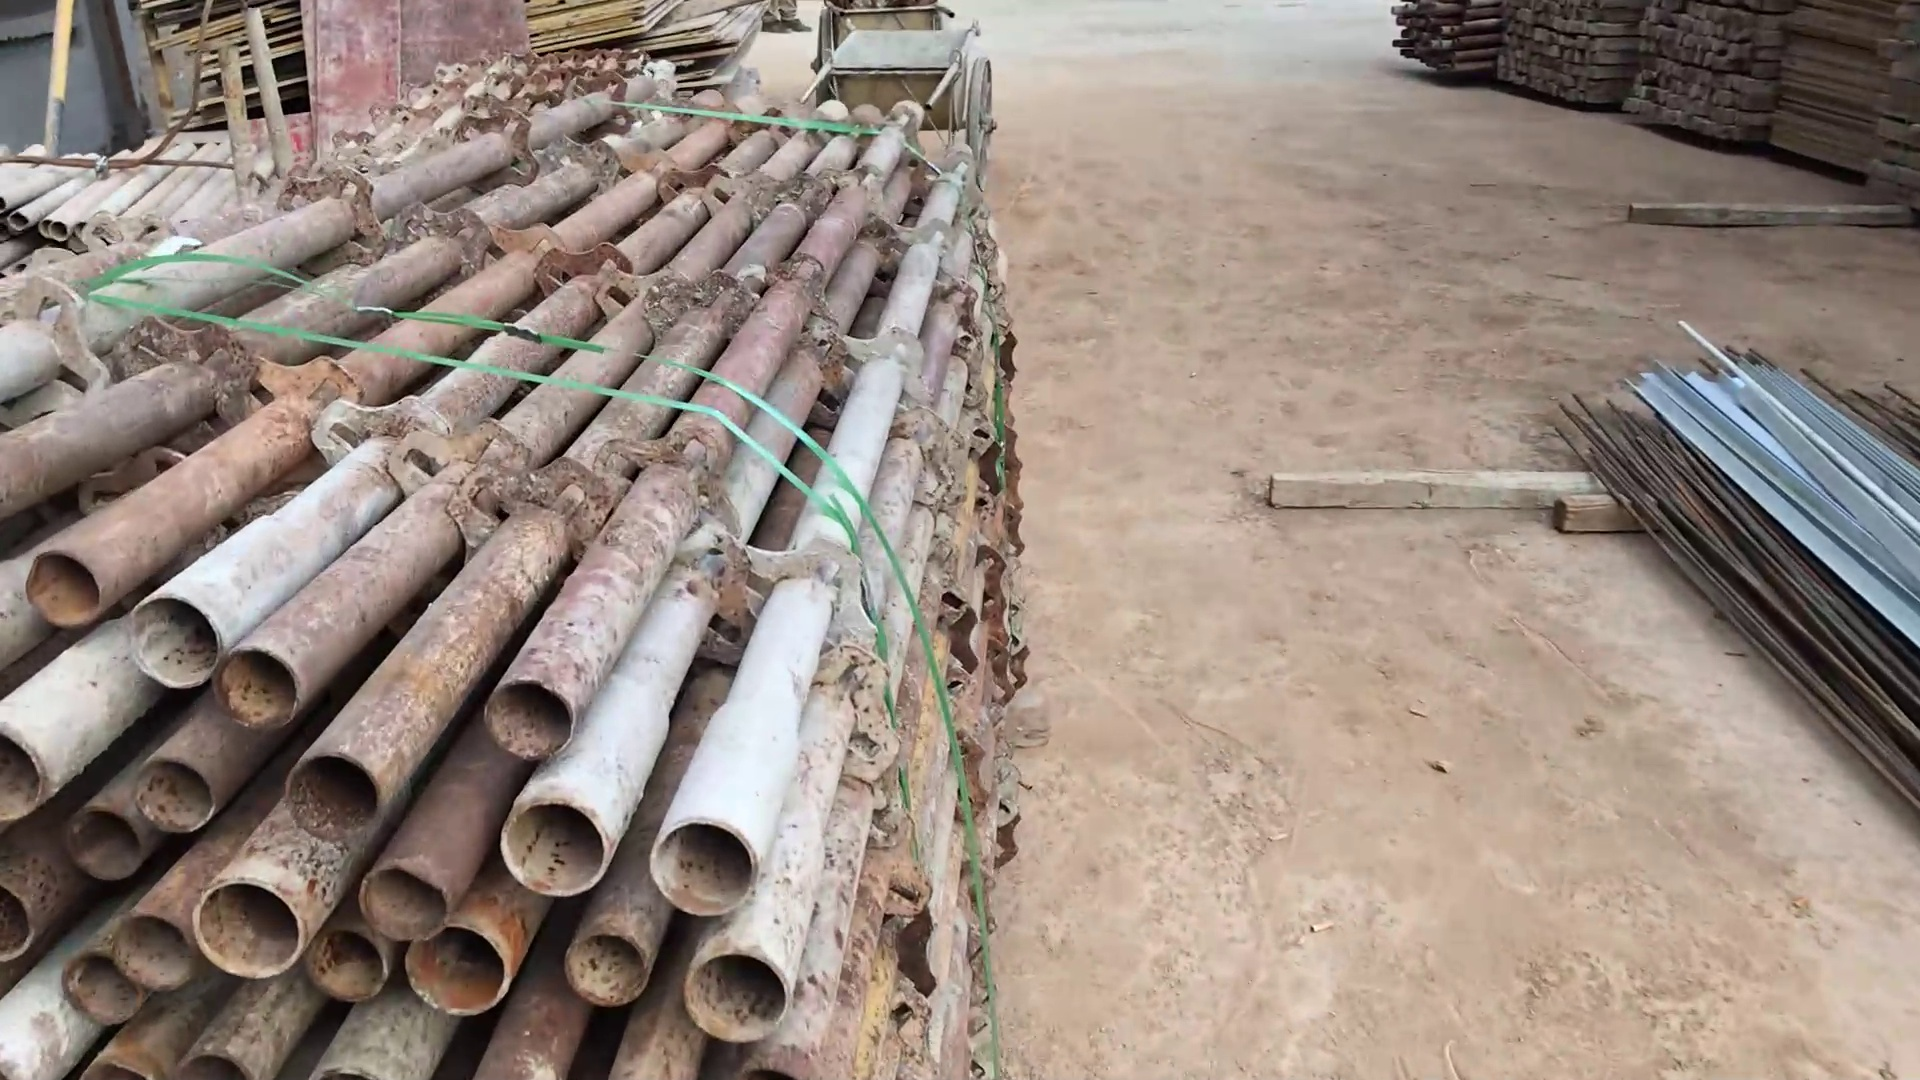board: (1760, 1, 1911, 193), (558, 1, 771, 88)
handcart: (800, 20, 1000, 199)
scaffold: (1, 83, 1025, 1080)
wood: (1631, 1, 1801, 157), (1485, 1, 1650, 123)
